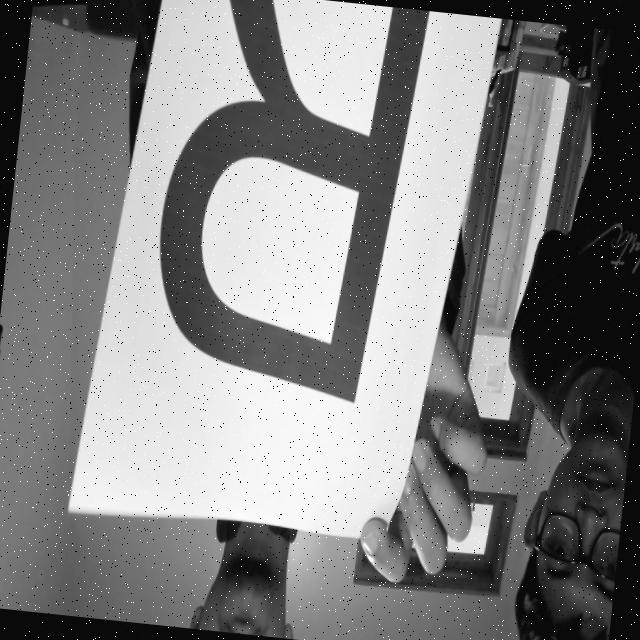r: (120, 0, 446, 425)
